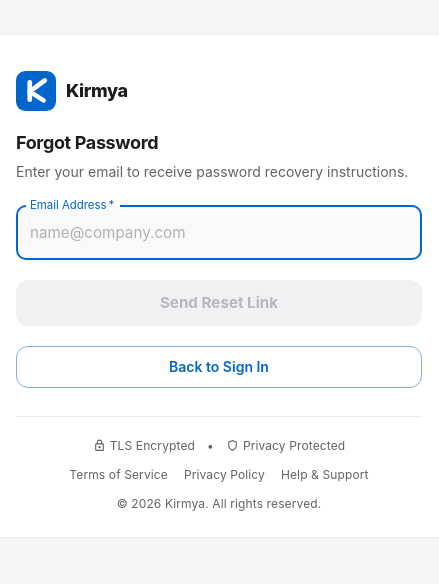
Test: ForgotPasswordPage › submits the address and confirms that instructions were sent
Type "Person@Example.com" into the field labelled "Email Address *" at (219, 233), box left=16, top=206, right=422, bottom=260
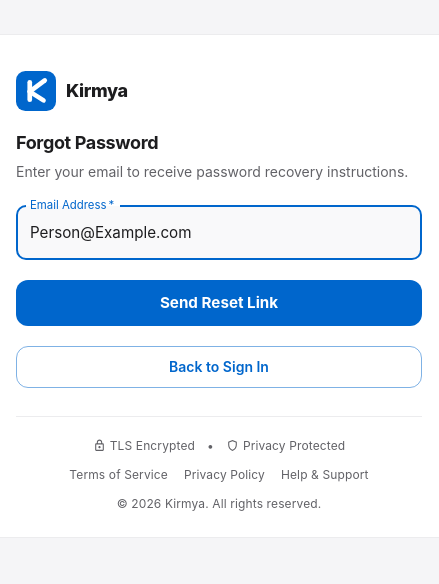
Click the button "Send Reset Link" at (219, 303), box left=16, top=280, right=422, bottom=326
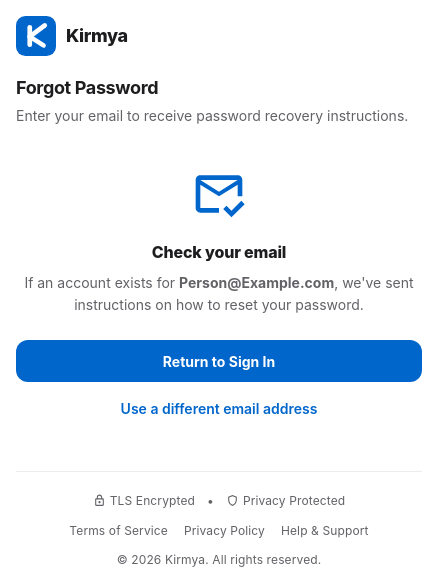
Expected: the heading "Check your email" is shown, left=152, top=242, right=286, bottom=262
